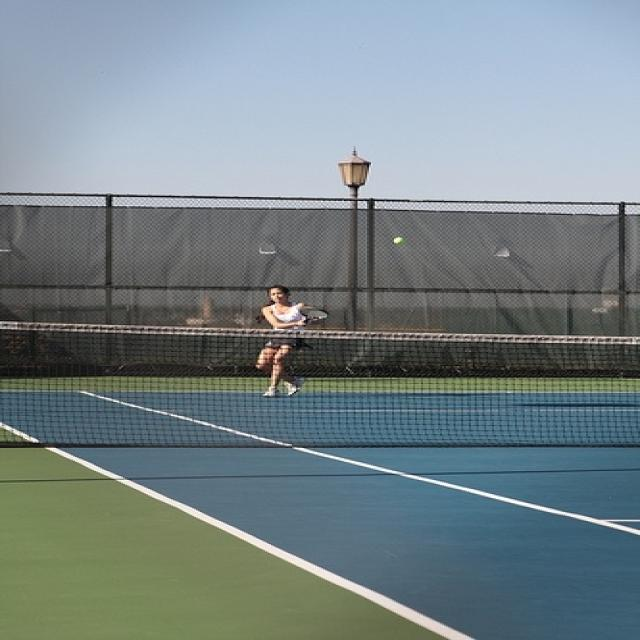ball: (392, 236, 404, 243)
